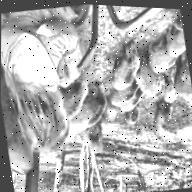boar: (62, 95, 106, 144), (107, 44, 139, 94), (63, 78, 96, 119), (134, 66, 164, 111), (150, 102, 177, 142), (142, 48, 173, 80), (164, 25, 187, 62), (117, 90, 144, 121), (175, 65, 192, 112), (120, 107, 143, 137), (109, 88, 133, 115), (106, 100, 117, 132)
